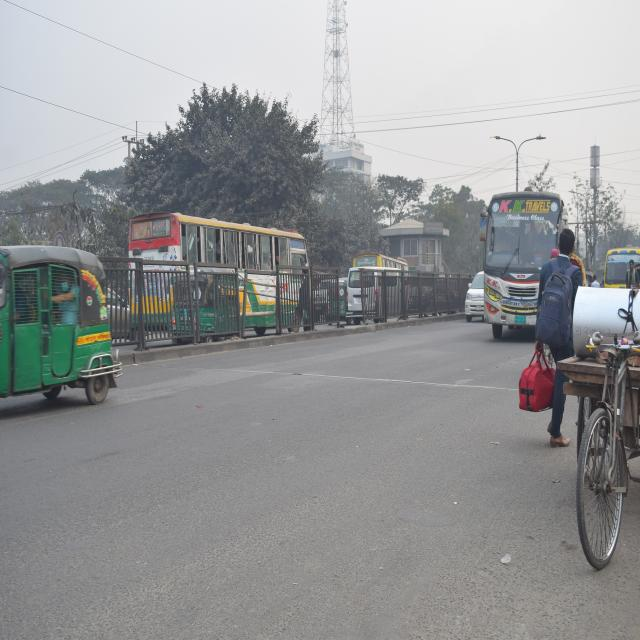bus: (123, 202, 317, 346), (481, 178, 572, 360)
car: (448, 240, 485, 334)
